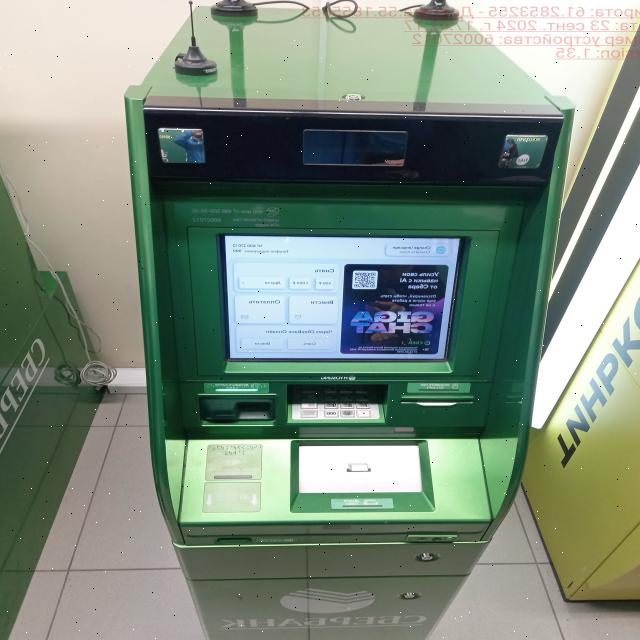bank: (124, 3, 578, 640), (0, 106, 106, 640)
